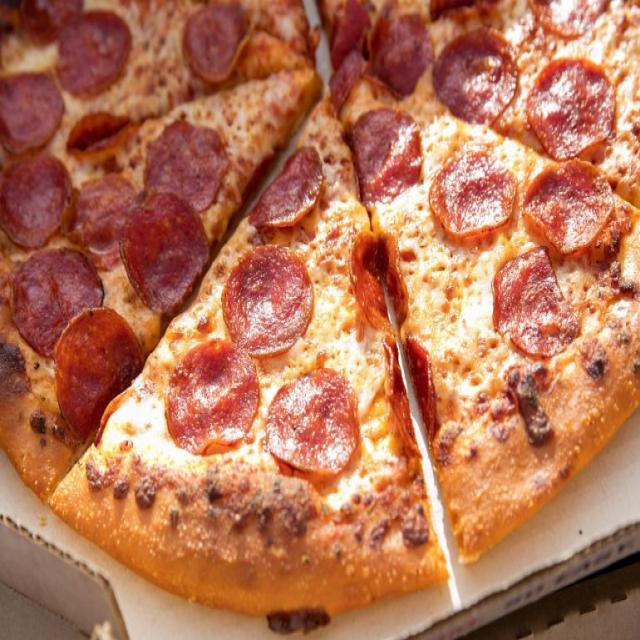pepperoni: (166, 334, 263, 461), (118, 186, 206, 311), (222, 241, 314, 360), (55, 306, 143, 428), (488, 250, 585, 359), (267, 365, 359, 472), (526, 50, 614, 155), (16, 245, 102, 348), (432, 24, 519, 124), (340, 102, 422, 206), (142, 115, 226, 216), (522, 150, 608, 248), (431, 140, 514, 237), (376, 328, 438, 449), (1, 154, 74, 254), (56, 8, 132, 102), (252, 138, 324, 234), (349, 230, 417, 328), (0, 61, 63, 159), (182, 0, 251, 88), (369, 7, 426, 92), (330, 8, 369, 111), (68, 104, 130, 152), (526, 0, 600, 40)
